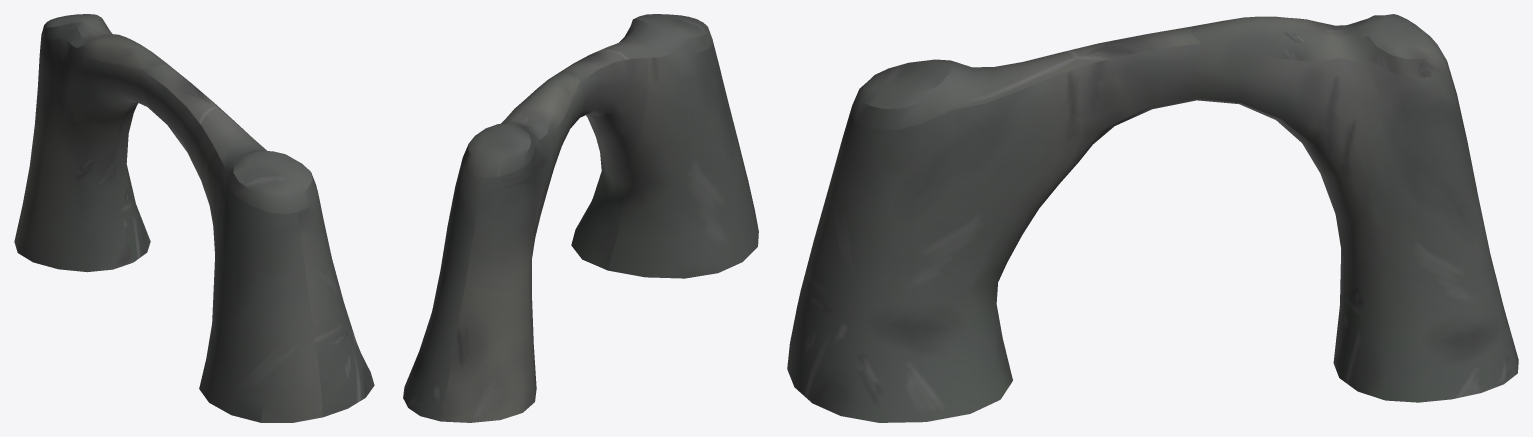
The model's file is Portal_HighPoly.fbx.
3 renders of one model, left to right at view 1: azimuth 30°, elevation 25°; view 2: azimuth 150°, elevation 25°; view 3: azimuth 270°, elevation 25°, orthographic. The views are drawn at different scales.
Parts seen in each view (by area): view 1: rock_portal; view 2: rock_portal; view 3: rock_portal.
Boxes of the visible parts, bbox=[...] form: rock_portal: bbox=[14, 14, 374, 422]; rock_portal: bbox=[403, 14, 758, 422]; rock_portal: bbox=[787, 14, 1518, 422].
Size of the model in its own units: 167 by 262 by 515.
